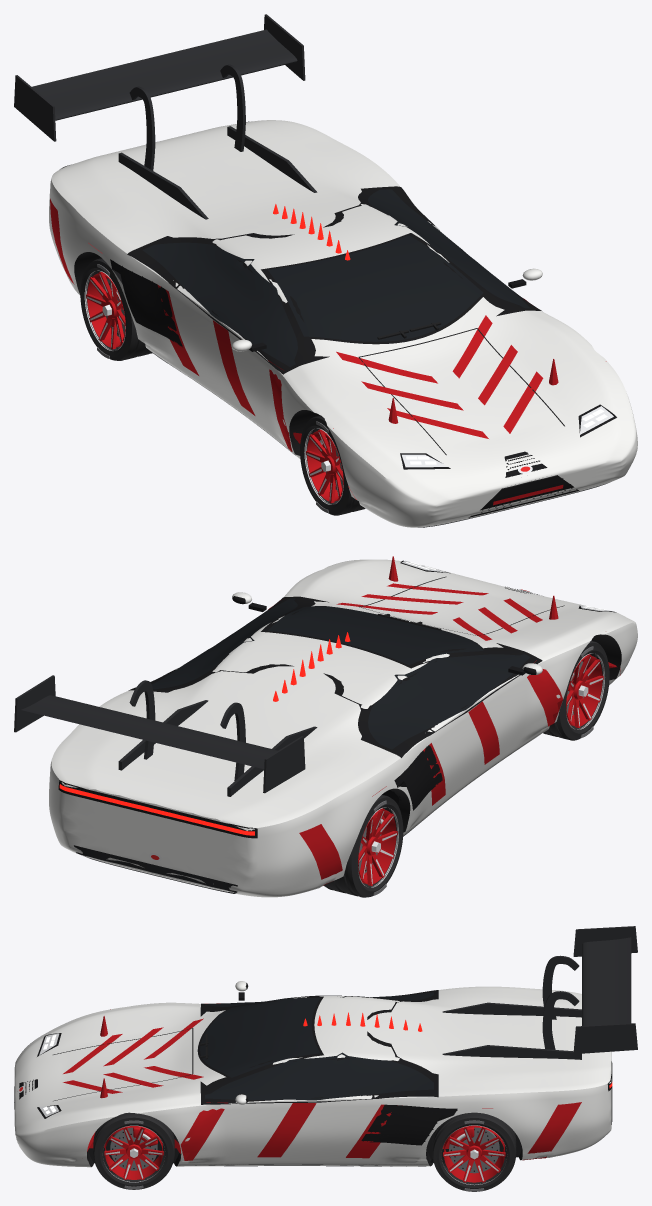
File: torazero.glb
The picture shows the model from 3 angles, top to bottom: view 1: azimuth 30°, elevation 25°; view 2: azimuth 150°, elevation 25°; view 3: azimuth 270°, elevation 25°; orthographic projection. The views are drawn at different scales.
Parts seen in each view (by area): view 1: Body, Wheel_RR, Wheel_FR; view 2: Body, Wheel_RR, Wheel_FR; view 3: Body, Wheel_RL, Wheel_FL.
Boxes of the visible parts, x1=… form: Body: x1=14, y1=14, x2=637, y2=527; Wheel_RR: x1=80, y1=258, x2=152, y2=360; Wheel_FR: x1=300, y1=415, x2=365, y2=515; Body: x1=14, y1=556, x2=637, y2=897; Wheel_RR: x1=324, y1=795, x2=403, y2=897; Wheel_FR: x1=543, y1=641, x2=609, y2=740; Body: x1=14, y1=926, x2=637, y2=1167; Wheel_RL: x1=432, y1=1112, x2=516, y2=1191; Wheel_FL: x1=93, y1=1112, x2=174, y2=1189.
Bounding box in the file's own units: 2.39 × 1.53 × 5.23.
